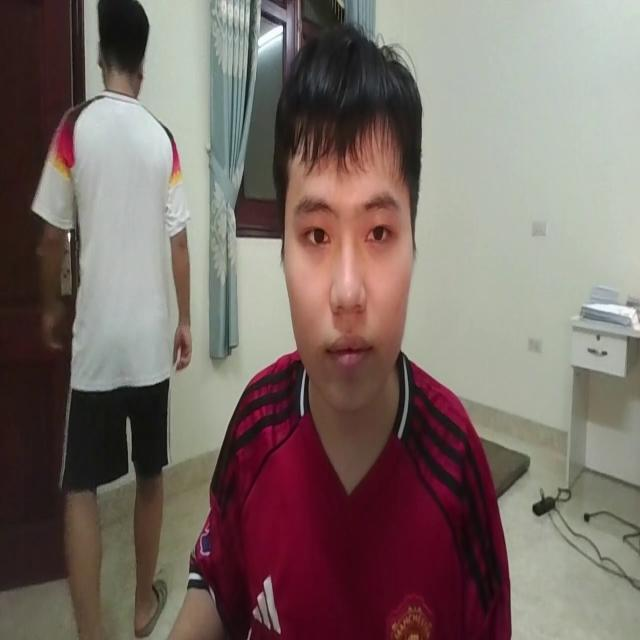extra_person: (27, 0, 194, 640)
student: (178, 21, 515, 640)
